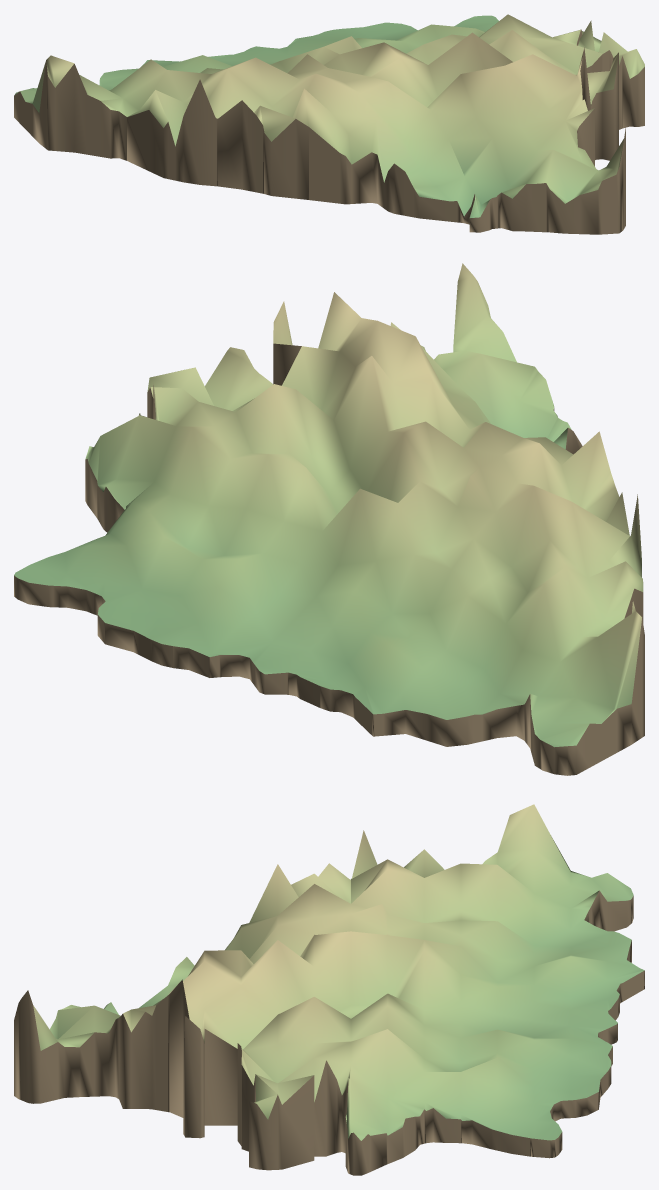
The model's file is BIH.glb.
3 views of the same model, one above another, from view 1: azimuth 30°, elevation 25°; view 2: azimuth 150°, elevation 25°; view 3: azimuth 270°, elevation 25° (orthographic). The views are drawn at different scales.
Visible parts, largest first — view 1: BIH; view 2: BIH; view 3: BIH.
Boxes of the visible parts, <box> form: BIH: <box>14,14,644,234</box>; BIH: <box>14,263,644,775</box>; BIH: <box>14,804,644,1175</box>.
Size of the model in its own units: 1.4 by 0.338 by 1.39.
